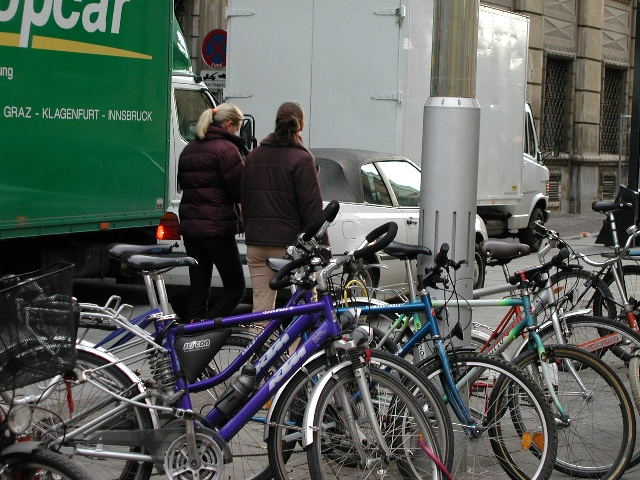person: (240, 99, 323, 390), (176, 100, 249, 376)
